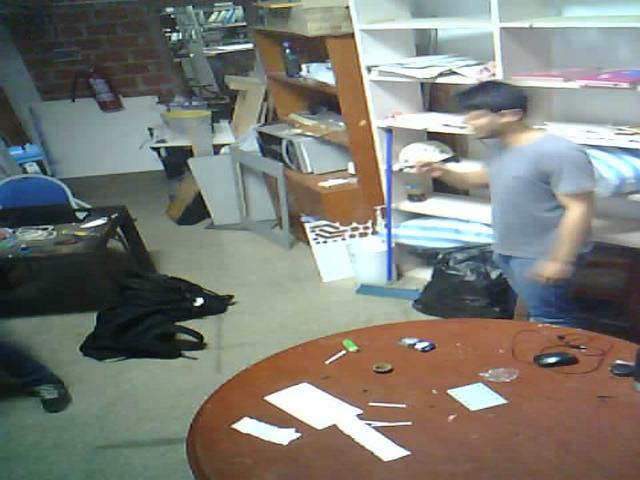person: (424, 33, 623, 371)
